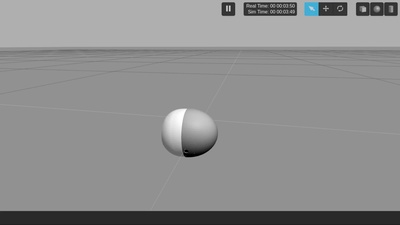mira_robot: (162, 108, 218, 158)
